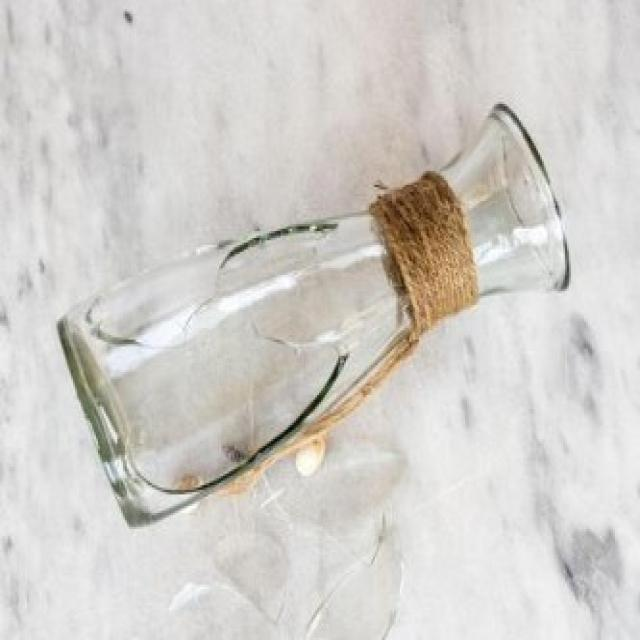electronic: (52, 102, 574, 536)
